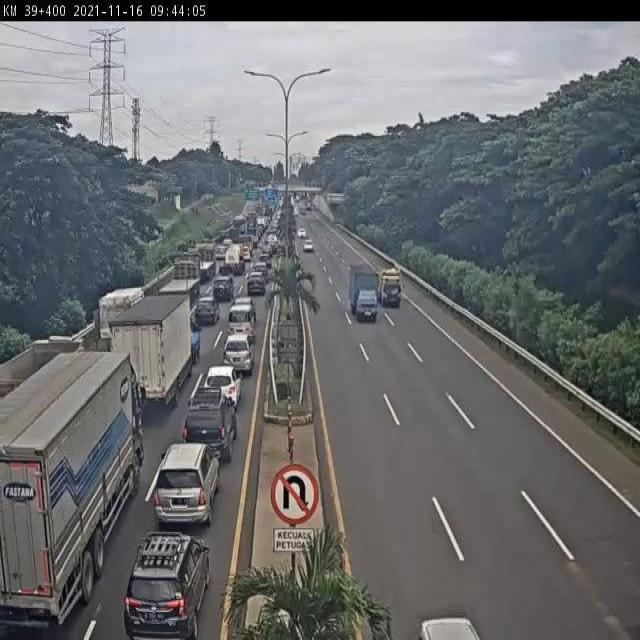car: (123, 526, 210, 630), (148, 440, 224, 533), (181, 386, 236, 466), (201, 360, 240, 407), (218, 330, 251, 378), (193, 287, 225, 328), (219, 303, 259, 329), (242, 272, 270, 297), (213, 272, 236, 299)
small truck: (377, 266, 403, 310)
truck-l-: (0, 350, 146, 626), (156, 256, 199, 303), (193, 237, 214, 279)
truck-m-: (119, 285, 202, 403), (99, 288, 145, 359), (347, 262, 380, 326)
